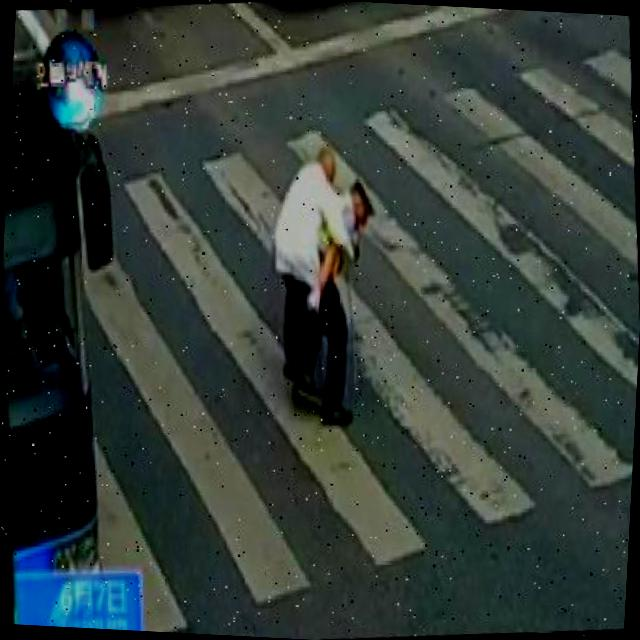Person: (256, 142, 367, 411)
